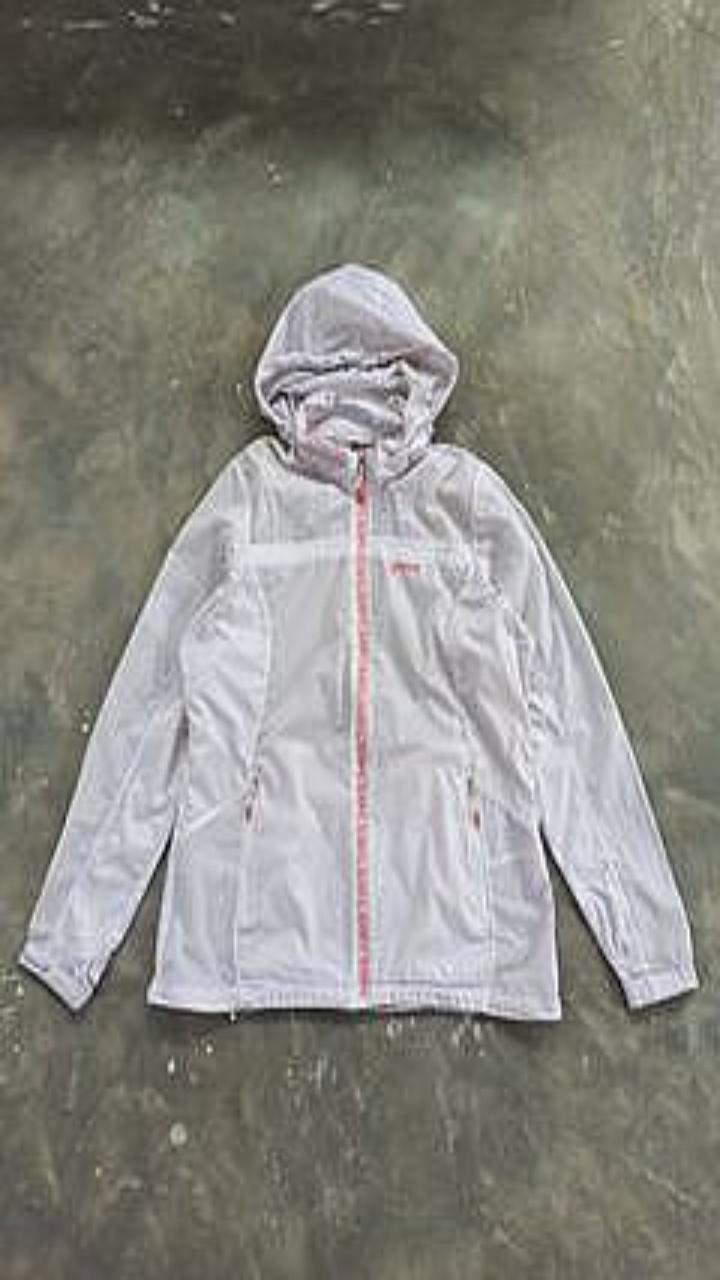Sports_Jacket: (18, 262, 697, 1019)
